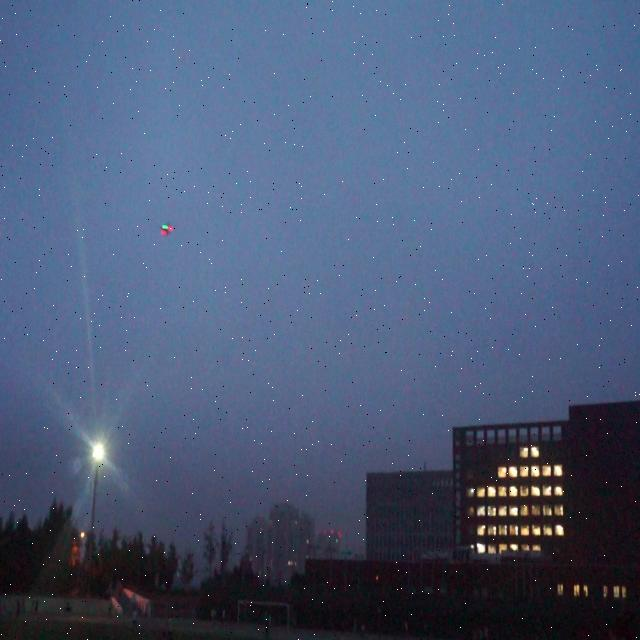UAV: (160, 223, 174, 236)
